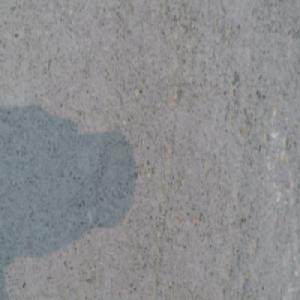Washer: (88, 286, 109, 300)
